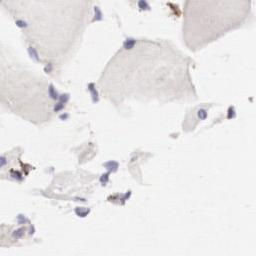nucleus: (86, 82, 99, 102), (74, 206, 90, 219), (103, 160, 119, 172), (9, 172, 26, 183), (119, 190, 131, 205), (28, 47, 39, 62), (226, 104, 236, 120), (123, 37, 136, 49), (47, 84, 58, 98), (93, 6, 103, 20), (138, 1, 151, 11), (52, 102, 66, 111), (14, 226, 24, 238), (43, 63, 54, 73), (198, 109, 207, 120), (17, 213, 26, 224), (101, 172, 109, 184), (28, 225, 36, 236), (15, 20, 27, 27), (60, 94, 72, 101), (59, 112, 69, 120), (73, 196, 87, 201), (1, 157, 7, 166)
positive_cell: (11, 162, 33, 185)
